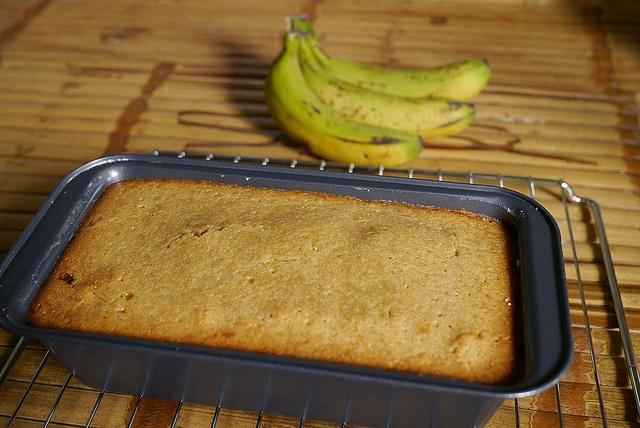banana: (264, 27, 426, 168), (298, 35, 477, 139), (304, 29, 491, 101)
